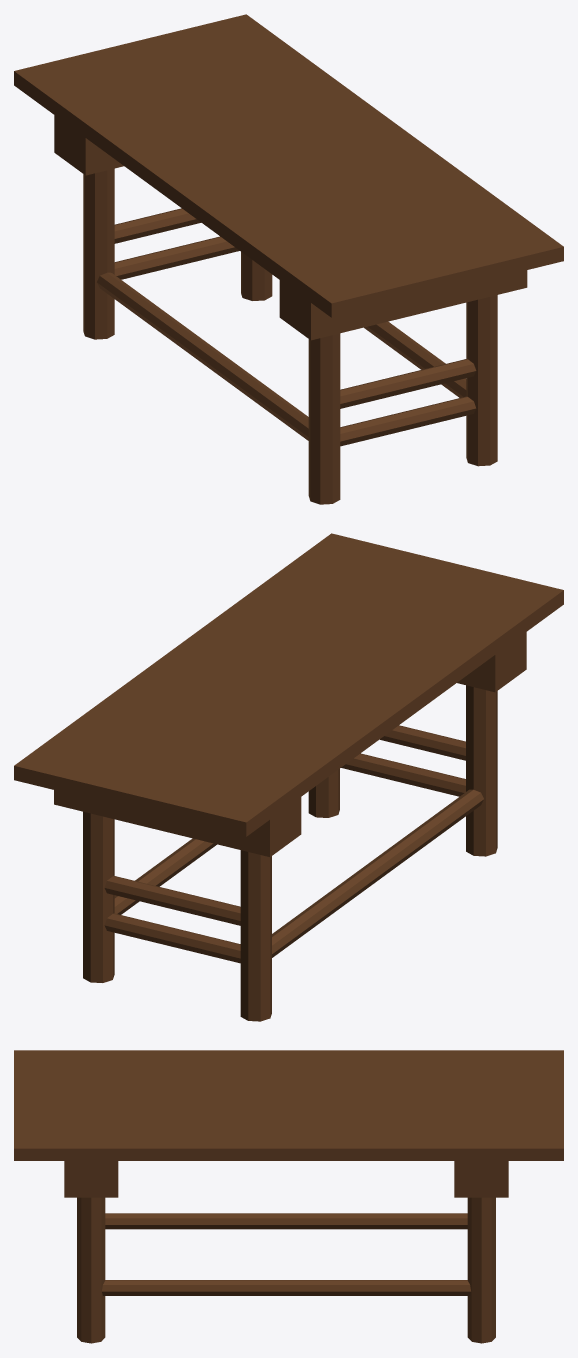
File: Butcher Table.fbx
3 views of the same model, one above another, from view 1: azimuth 30°, elevation 25°; view 2: azimuth 150°, elevation 25°; view 3: azimuth 270°, elevation 25° (orthographic). The views are drawn at different scales.
Visible parts, largest first — view 1: Butcher Table; view 2: Butcher Table; view 3: Butcher Table.
Boxes of the visible parts, x1=… form: Butcher Table: x1=14, y1=14, x2=563, y2=504; Butcher Table: x1=14, y1=533, x2=563, y2=1021; Butcher Table: x1=14, y1=1050, x2=563, y2=1343.
Bounding box in the file's own units: 84.53 × 82.13 × 200.
